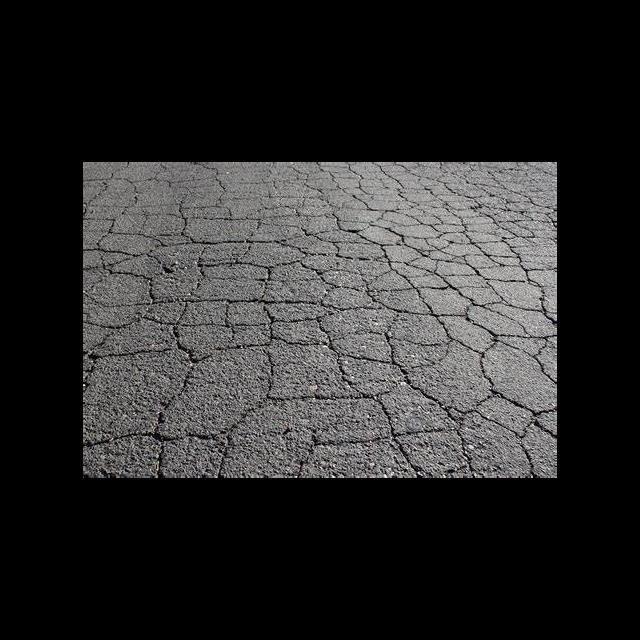retak_kulit_buaya: (83, 162, 557, 478)
